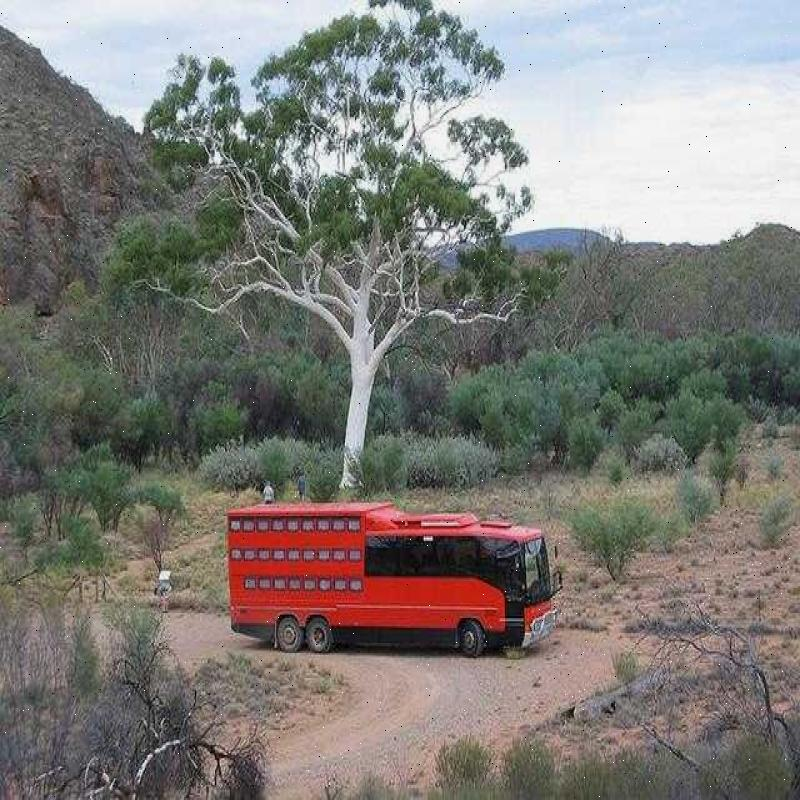bus: (160, 462, 584, 685)
